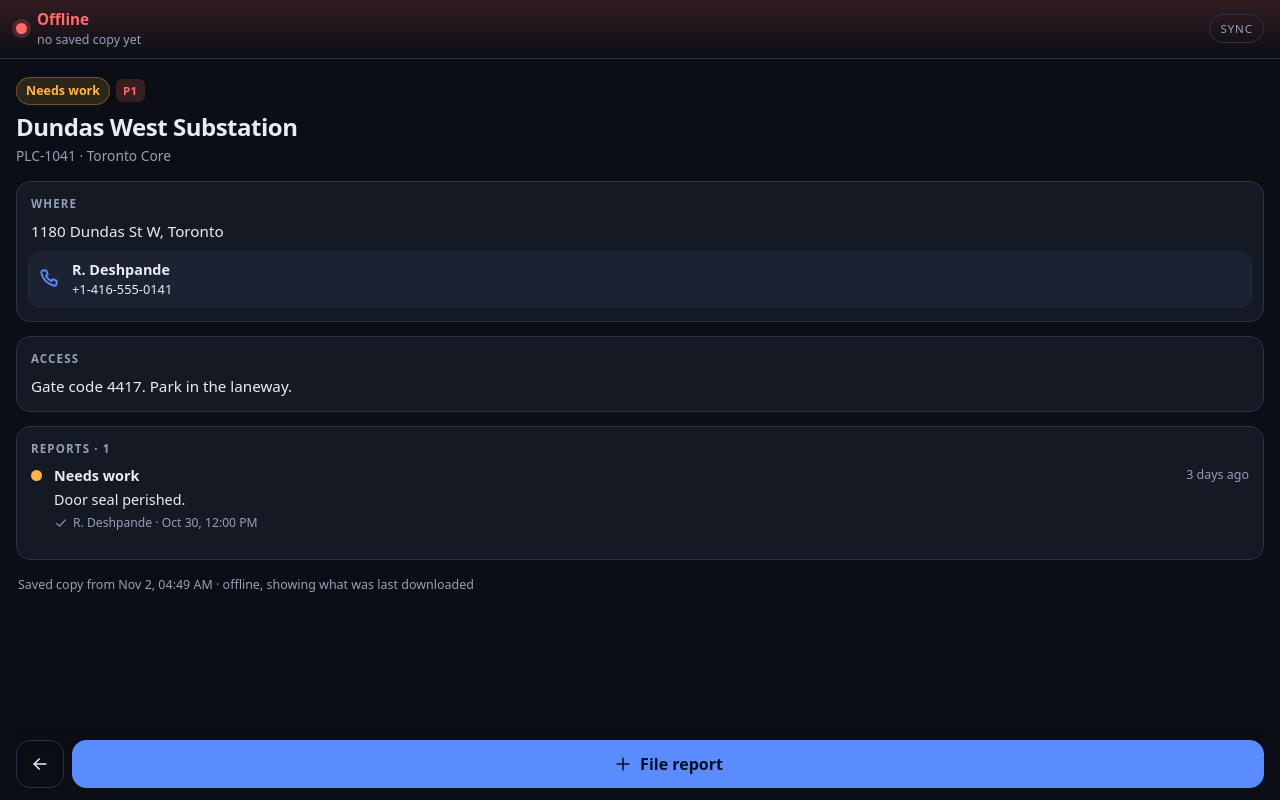
filing a report with no signal › saves it to the outbox and shows it on the site immediately
This screenshot has width=1280, height=800.
expect the text "Gate code 4417. Park in the laneway." is shown: met, box 31,376 -> 292,396
Click the button "File report" at (668, 764), box 72,740 -> 1264,788
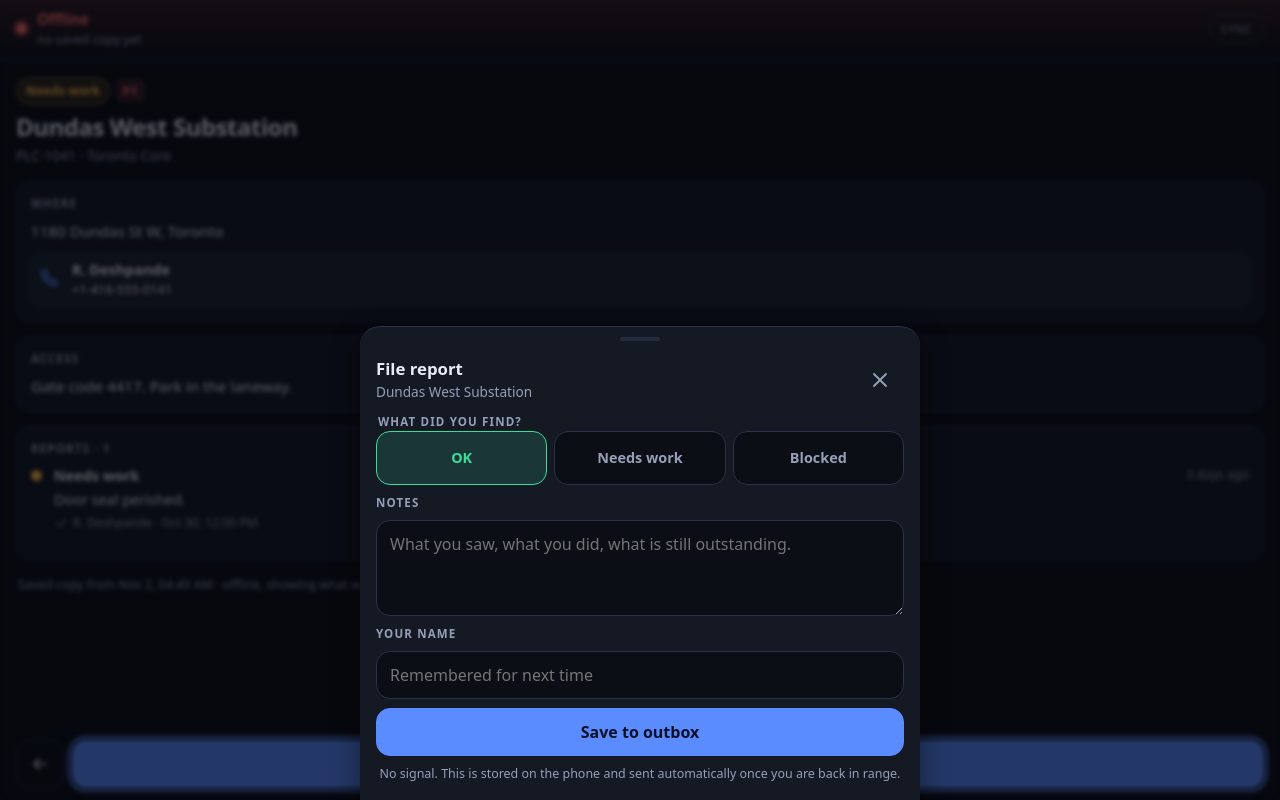
Click the button "Blocked" at (818, 458), box 733,431 -> 904,485
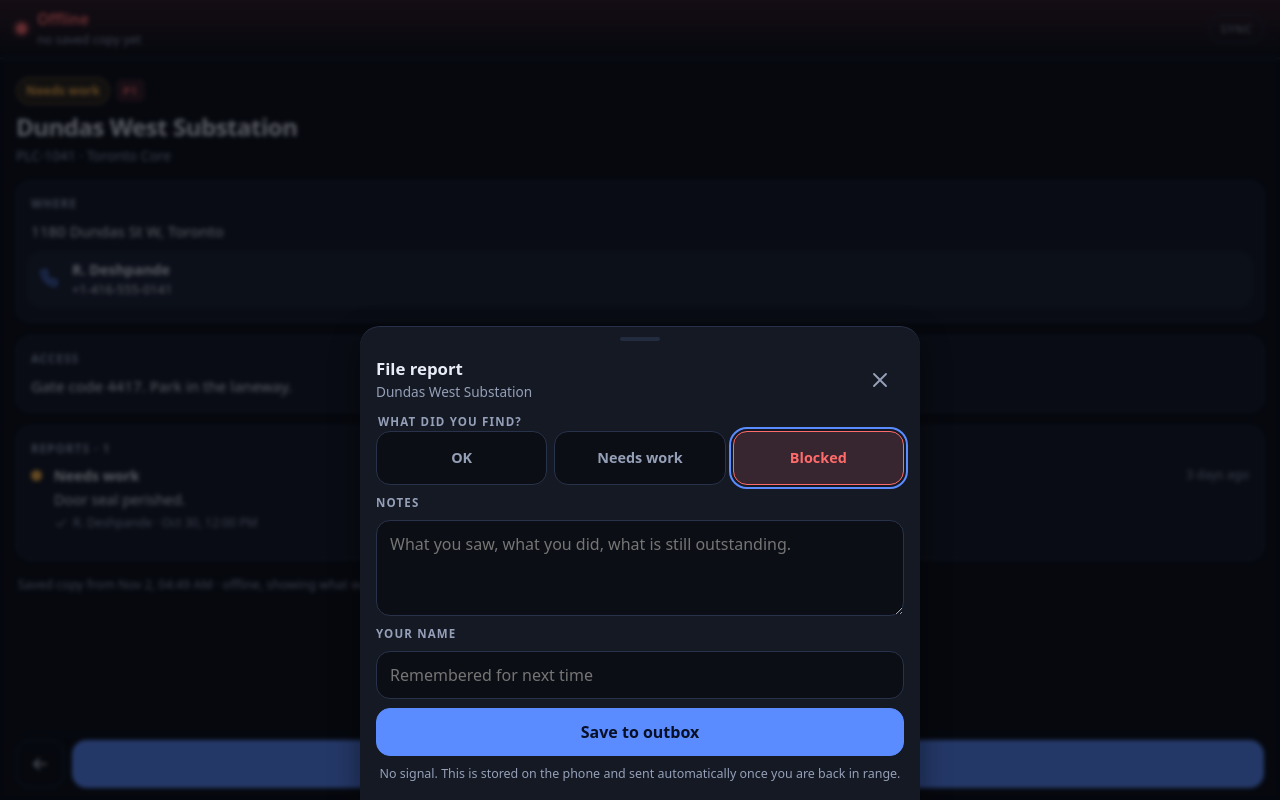
Type "Road washed out." into the text box labelled "Notes" at (640, 568), box 376,520 -> 904,616
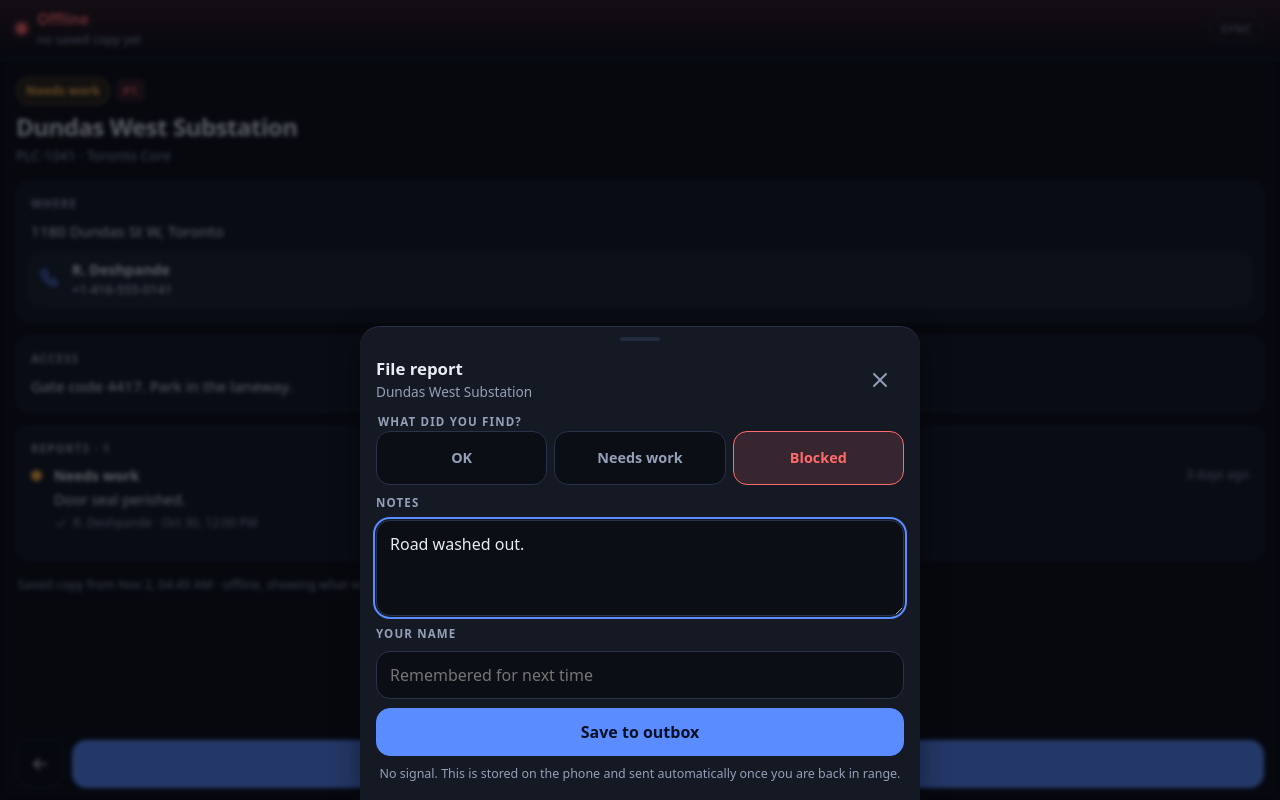
The button says what will actually happen while offline.
Click the button "Save to outbox" at (640, 732), box 376,708 -> 904,756
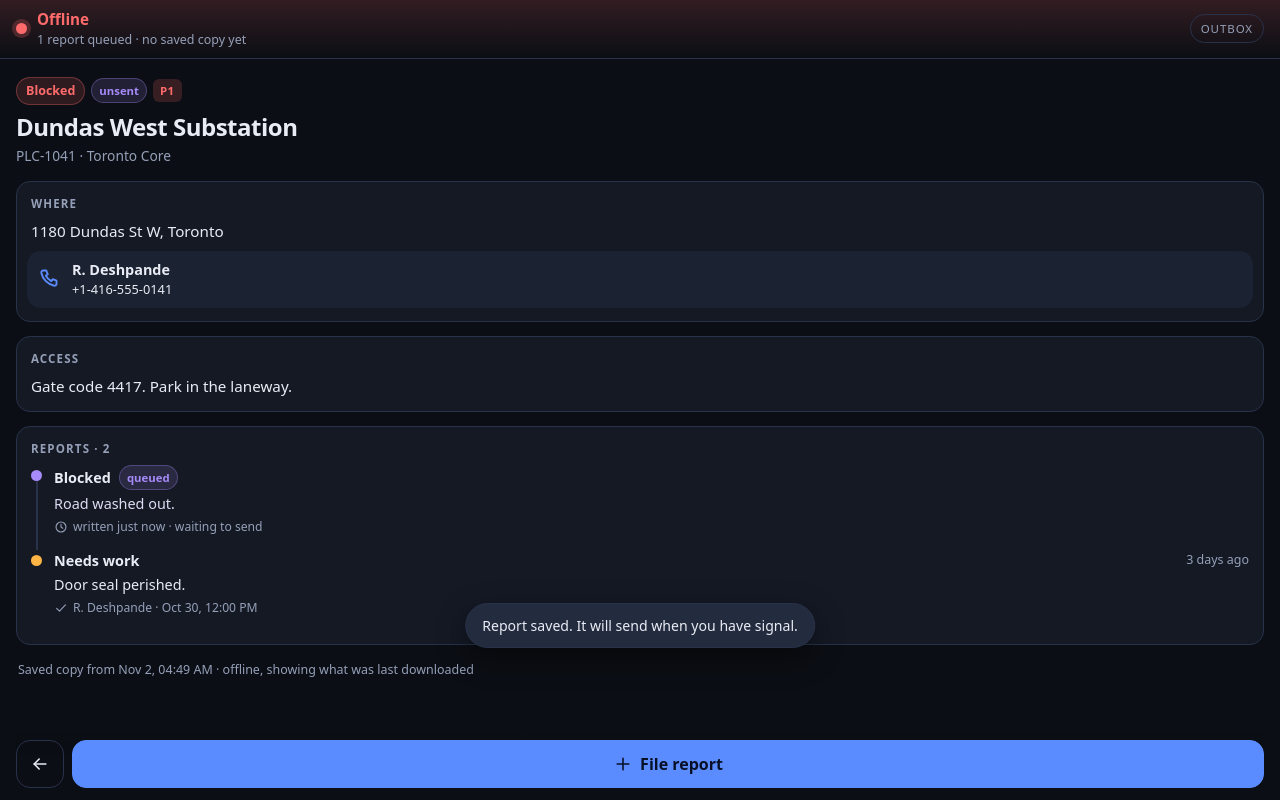
expect the text "queued" is shown: met, box 119,465 -> 178,490
expect the text "Road washed out." is shown: met, box 54,494 -> 175,513
